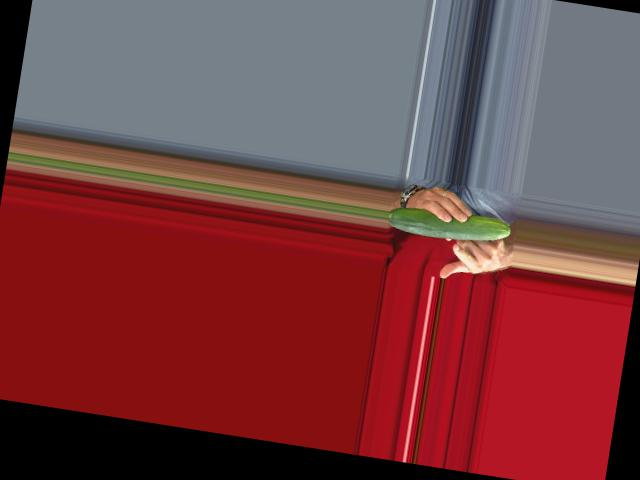cucumber: (386, 200, 512, 248)
